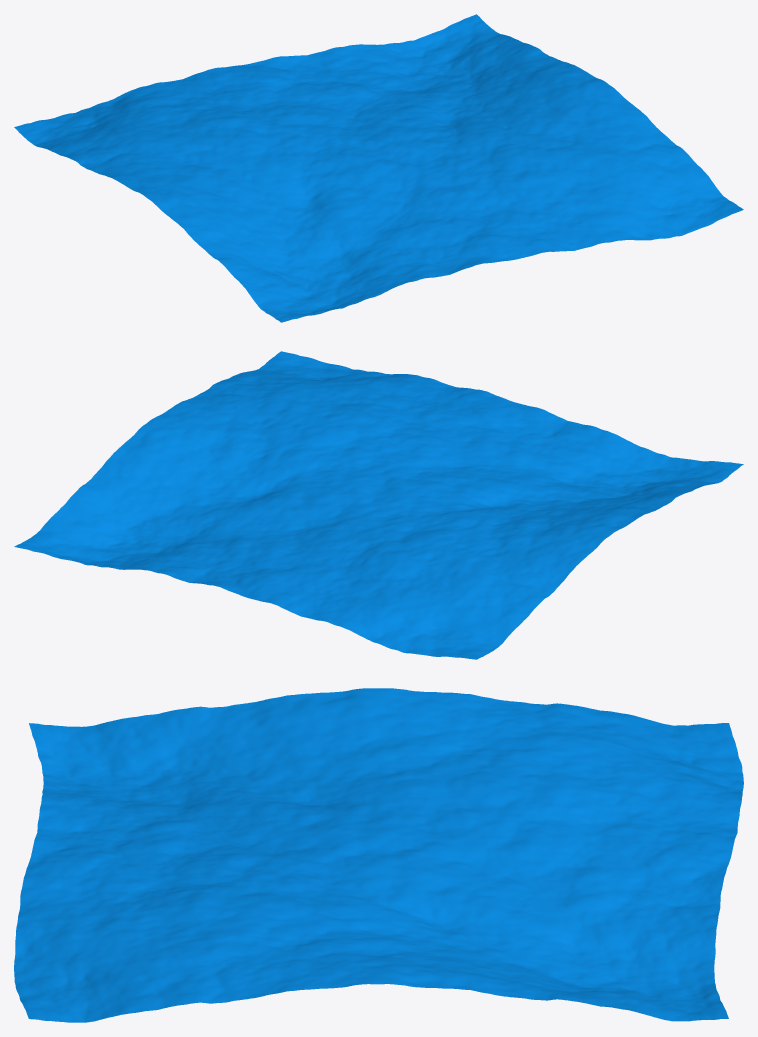
File: Water.fbx
3 renders of one model, top to bottom at view 1: azimuth 30°, elevation 25°; view 2: azimuth 150°, elevation 25°; view 3: azimuth 270°, elevation 25°, orthographic. The views are drawn at different scales.
Visible parts, largest first — view 1: Plane; view 2: Plane; view 3: Plane.
Part boxes in pixels (left/top/right/bottom): Plane: left=14, top=14, right=743, bottom=322; Plane: left=14, top=351, right=743, bottom=659; Plane: left=14, top=688, right=743, bottom=1022.
Bounding box in the file's own units: 38175 × 2872 × 39307.
